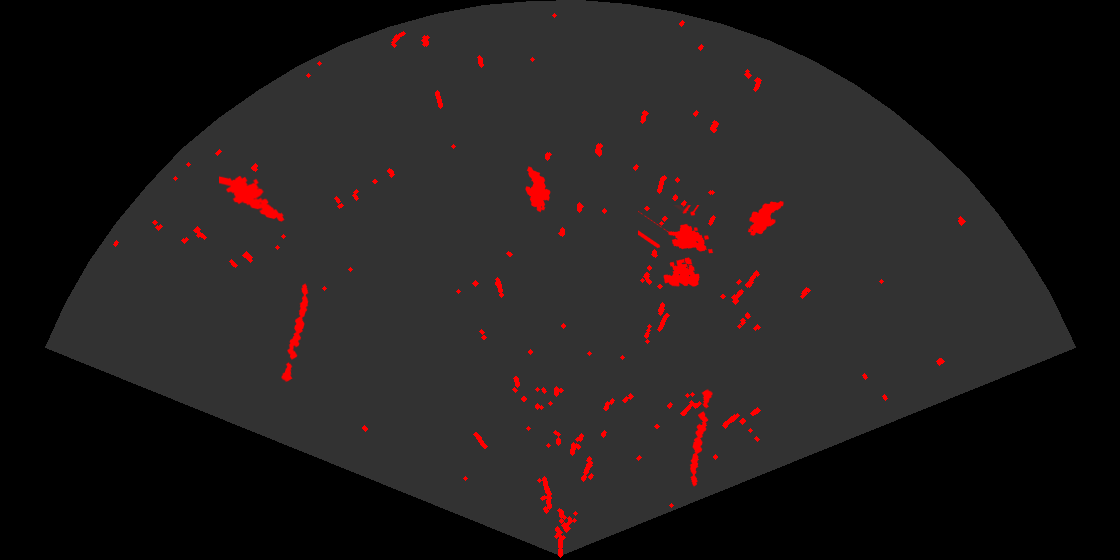AUV: (746, 199, 785, 237), (524, 165, 552, 214)
cage: (638, 205, 715, 289)
chain: (280, 282, 310, 384), (688, 387, 714, 488)
frogman: (219, 174, 286, 223)
